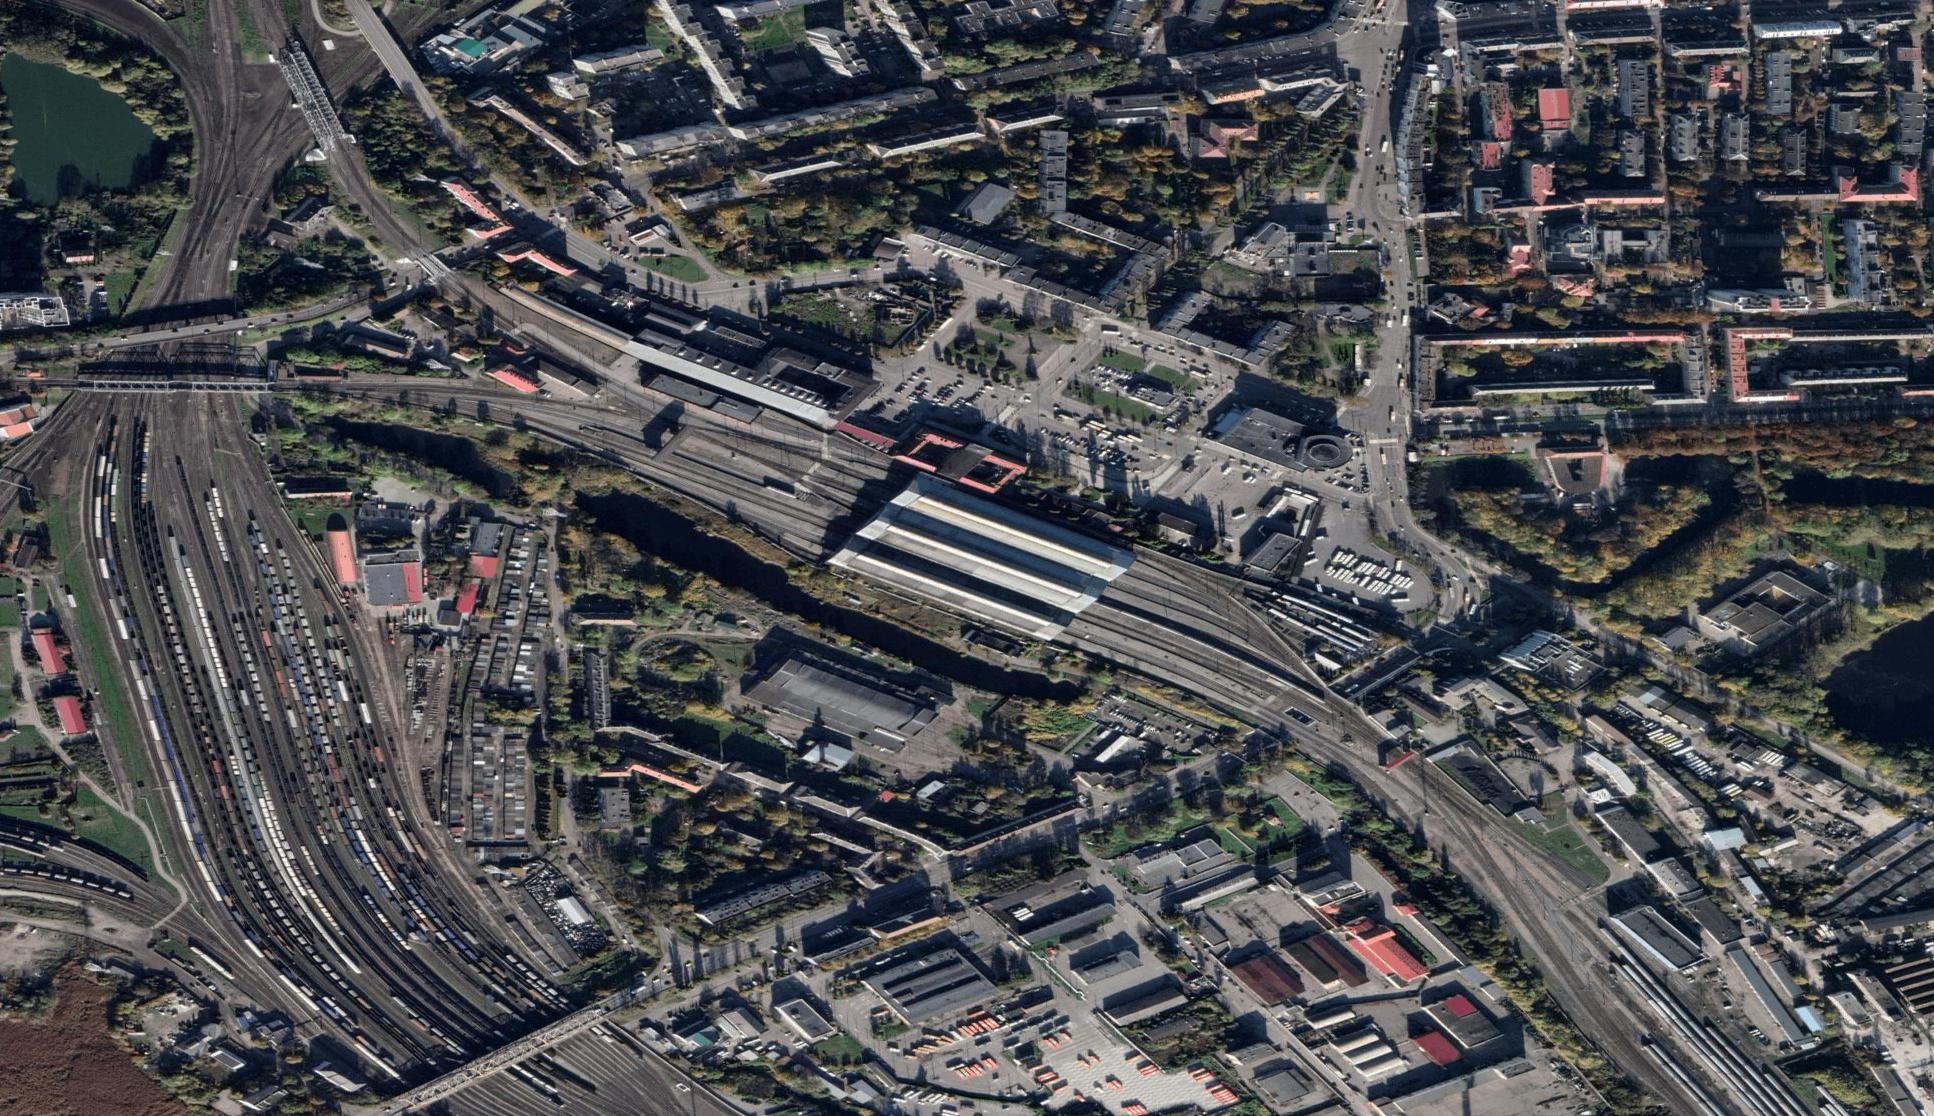bridge: (426, 1007, 600, 1095), (89, 353, 259, 403), (88, 304, 258, 353), (275, 54, 345, 134), (356, 11, 410, 76)
train_station: (784, 444, 1156, 683)
